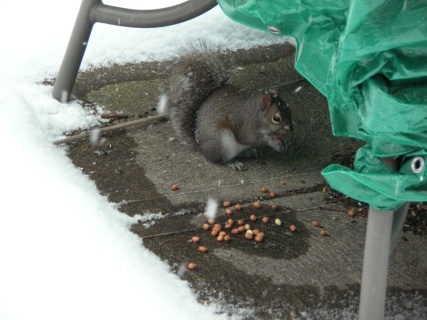Squirrel: (166, 42, 293, 172)
